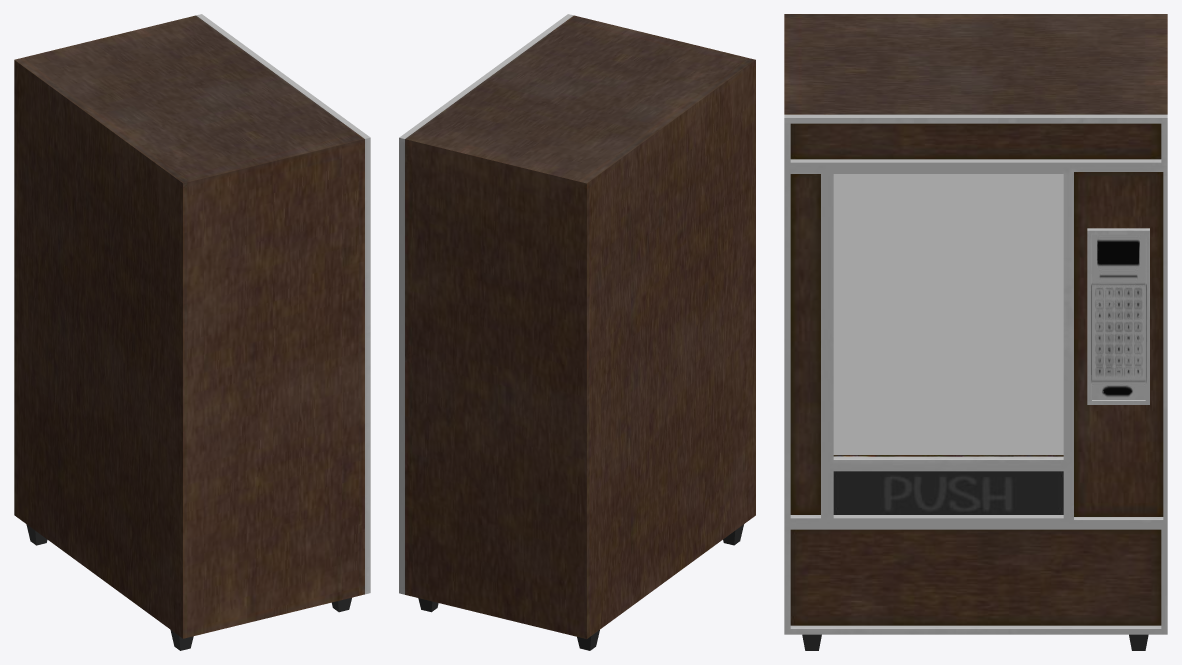
File: Vending Machine.glb
3 renders of one model, left to right at view 1: azimuth 30°, elevation 25°; view 2: azimuth 150°, elevation 25°; view 3: azimuth 270°, elevation 25°, orthographic. The views are drawn at different scales.
Parts seen in each view (by area): view 1: Vending Machine, Cube; view 2: Vending Machine, Cube; view 3: Vending Machine, Vending Machine.001, Vending Machine.002, Cube.
Part boxes in pixels (x1,y1,x2,y2): Vending Machine: (14,14,370,638); Cube: (26,524,351,650); Vending Machine: (399,14,755,638); Cube: (418,524,743,650); Vending Machine: (784,14,1167,634); Vending Machine.001: (1087,228,1149,404); Vending Machine.002: (833,471,1063,514); Cube: (802,634,1148,650).
Size of the model in its own units: 0.5886 by 1.43 by 0.9176.
Materials: 4 (2 with a texture image).
